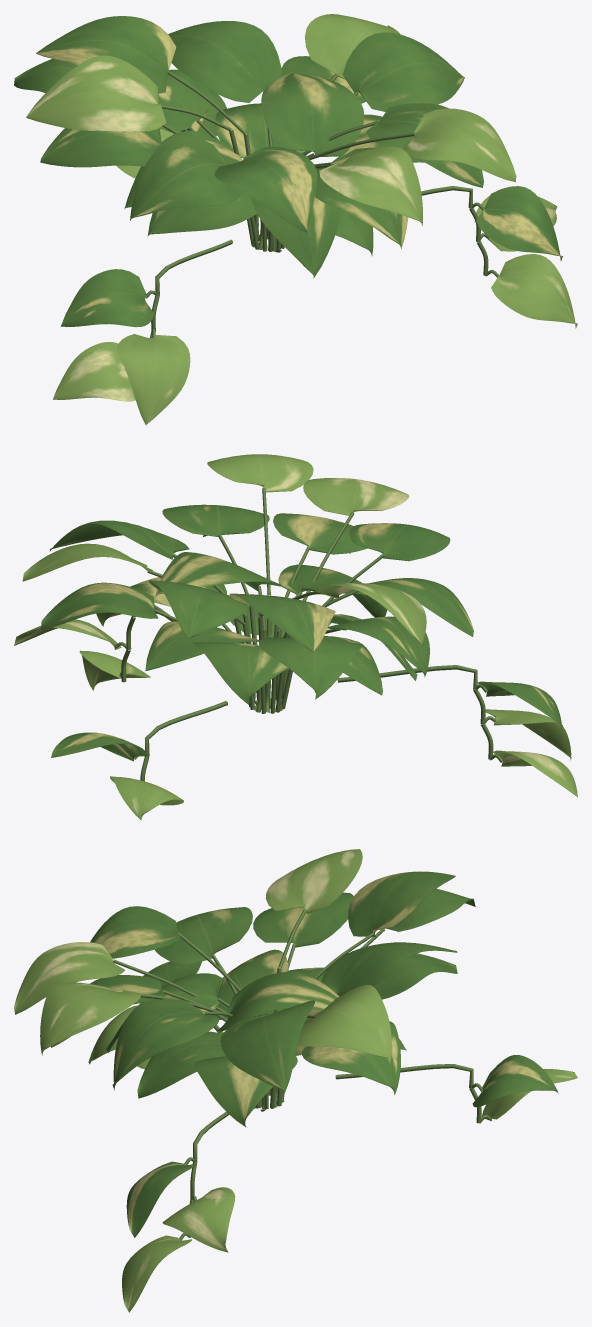
File: pothos-stage-5.glb
The picture shows the model from 3 angles, top to bottom: view 1: azimuth 30°, elevation 25°; view 2: azimuth 150°, elevation 25°; view 3: azimuth 270°, elevation 25°; orthographic projection.
Visible parts, largest first — view 1: Leaf_20, Leaf_14, Leaf_11, Leaf_8, Leaf_10, Leaf_17, Leaf_15, Leaf_18, Leaf_21, Leaf_33, PlantBranches, Leaf_37 (+16 smaller); view 2: PlantBranches, Leaf_12, Leaf_6, Leaf_14, Leaf_9, Leaf_18, Leaf_21, Leaf_17, Leaf_15, Leaf_8, Leaf_16, Leaf_13 (+17 smaller); view 3: Leaf_11, Leaf_16, Leaf_19, PlantBranches, Leaf_21, Leaf_17, Leaf_20, Leaf_18, Leaf_8, Leaf_10, Leaf_15, Leaf_14 (+16 smaller).
Boxes of the visible parts, x1,y1,x2,y2 form: Leaf_20: [26, 55, 166, 131]; Leaf_14: [168, 21, 281, 102]; Leaf_11: [342, 32, 464, 111]; Leaf_8: [261, 72, 364, 156]; Leaf_10: [130, 134, 244, 220]; Leaf_17: [36, 16, 176, 93]; Leaf_15: [214, 147, 317, 232]; Leaf_18: [319, 146, 422, 225]; Leaf_21: [403, 108, 516, 181]; Leaf_33: [117, 334, 190, 425]; PlantBranches: [145, 71, 499, 337]; Leaf_37: [491, 254, 577, 328]; PlantBranches: [114, 487, 502, 781]; Leaf_12: [259, 637, 362, 699]; Leaf_6: [41, 582, 158, 629]; Leaf_14: [149, 580, 250, 638]; Leaf_9: [192, 642, 288, 704]; Leaf_18: [303, 478, 409, 515]; Leaf_21: [207, 454, 313, 492]; Leaf_17: [229, 593, 335, 652]; Leaf_15: [349, 523, 450, 561]; Leaf_8: [155, 552, 281, 596]; Leaf_16: [162, 504, 269, 536]; Leaf_13: [273, 513, 367, 554]; Leaf_11: [220, 1000, 314, 1092]; Leaf_16: [112, 999, 219, 1090]; Leaf_19: [298, 985, 391, 1063]; PlantBranches: [113, 909, 491, 1240]; Leaf_21: [40, 982, 141, 1055]; Leaf_17: [348, 871, 455, 937]; Leaf_20: [265, 849, 362, 913]; Leaf_18: [14, 942, 124, 1014]; Leaf_8: [218, 972, 339, 1031]; Leaf_10: [155, 907, 252, 965]; Leaf_15: [90, 906, 181, 958]; Leaf_14: [321, 942, 457, 996].
Bounding box in the file's own units: 3.07 × 1.54 × 2.82.
Materials: 3 (2 with a texture image).
